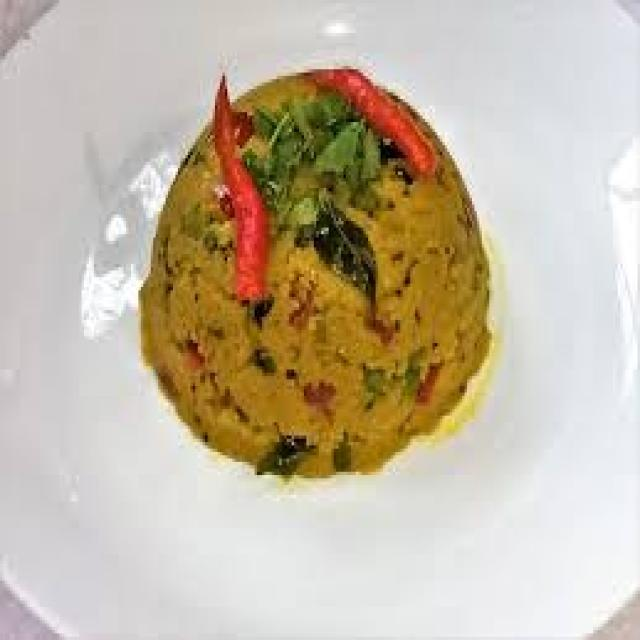POHA: (146, 76, 489, 468)
